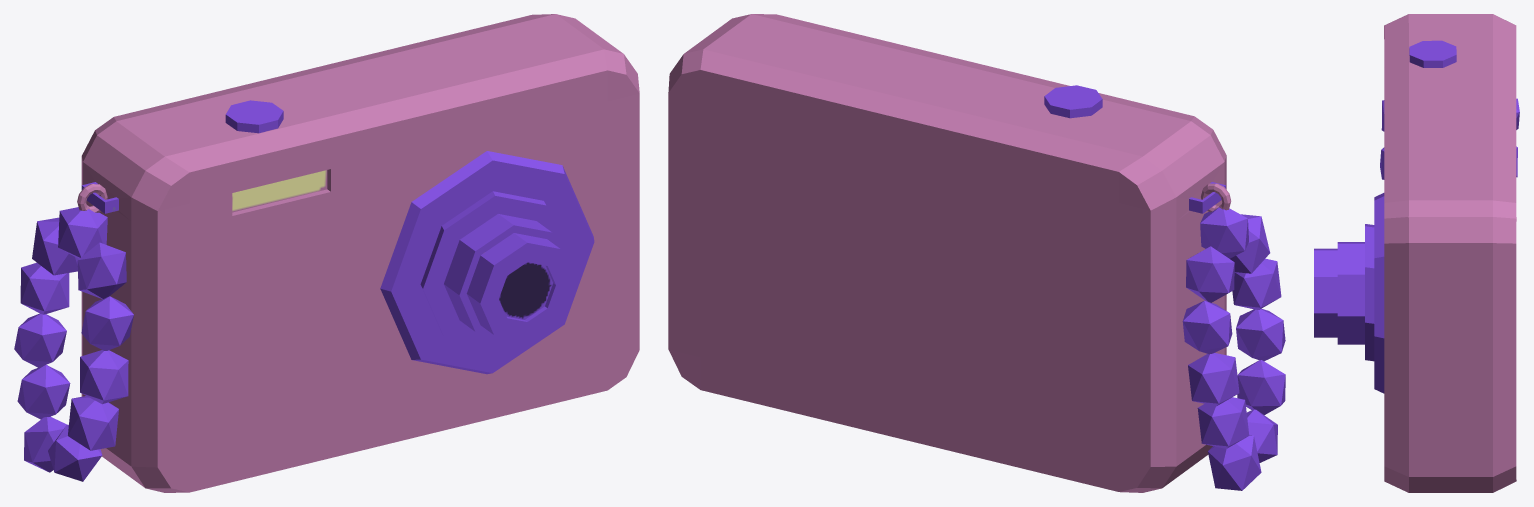
Rendered from Camera.fbx.
3 views of the same model, side by side, from view 1: azimuth 30°, elevation 25°; view 2: azimuth 150°, elevation 25°; view 3: azimuth 270°, elevation 25° (orthographic). The views are drawn at different scales.
Parts seen in each view (by area): view 1: MiniCameraRoom; view 2: MiniCameraRoom; view 3: MiniCameraRoom.
Part boxes in pixels (x1,y1,x2,y2): MiniCameraRoom: [14, 14, 639, 492]; MiniCameraRoom: [668, 14, 1285, 492]; MiniCameraRoom: [1314, 14, 1519, 492].
Size of the model in its own units: 35.89 by 20.59 by 12.82.
